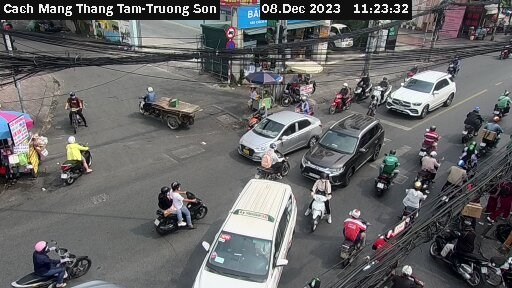car: (194, 177, 300, 286), (301, 111, 384, 187), (239, 109, 320, 158), (387, 68, 458, 121)
motorbike: (12, 237, 91, 284), (435, 222, 488, 284), (153, 185, 206, 232), (50, 135, 99, 185), (61, 92, 104, 130), (337, 215, 372, 258), (370, 153, 409, 191), (298, 182, 335, 218), (438, 163, 466, 206), (475, 118, 504, 152), (455, 144, 484, 176), (411, 129, 442, 156), (488, 89, 512, 121), (325, 86, 352, 113), (367, 80, 393, 106), (348, 73, 373, 100), (456, 110, 479, 138), (446, 54, 470, 80)
